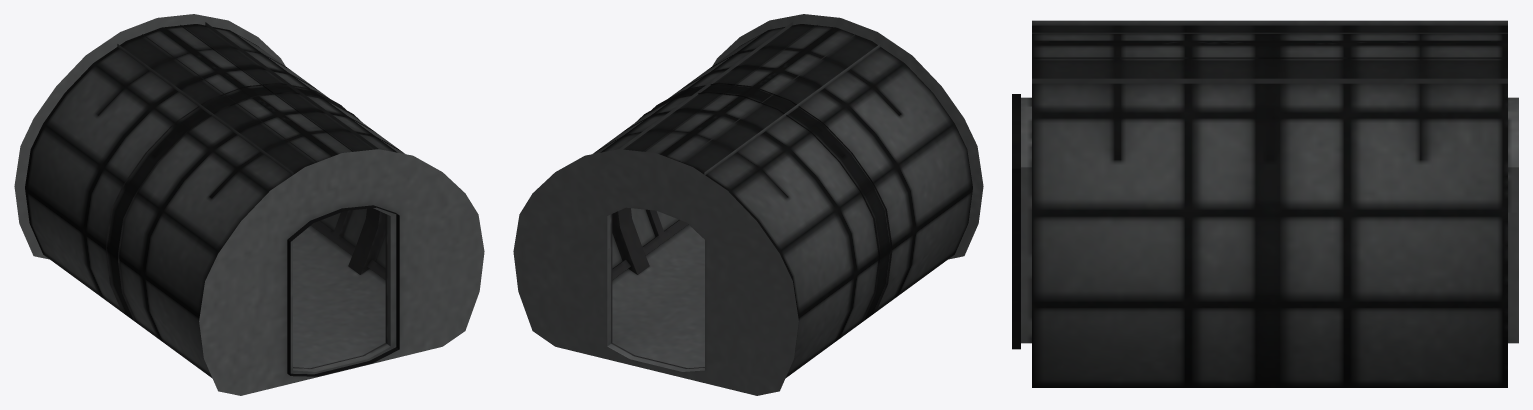
The model's file is sftm_module.fbx.
3 views of the same model, side by side, from view 1: azimuth 30°, elevation 25°; view 2: azimuth 150°, elevation 25°; view 3: azimuth 270°, elevation 25° (orthographic). The views are drawn at different scales.
Parts seen in each view (by area): view 1: cabin; view 2: cabin; view 3: cabin.
Part boxes in pixels (x1,y1,x2,y2): cabin: [14, 14, 484, 395]; cabin: [513, 14, 983, 395]; cabin: [1012, 20, 1518, 387].
Bounding box in the file's own units: 4.9 × 3.58 × 5.58.
